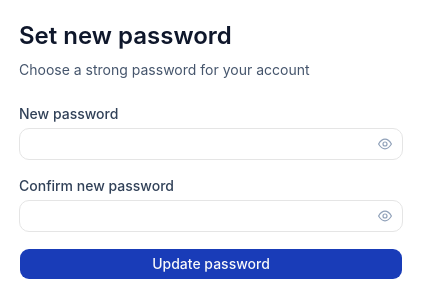
Test case: ResetPasswordPage › показывает ошибку Zod при слабом пароле (нет спецсимвола)
Type "WeakPass1" into the password field labelled "New password".
click(211, 144); type("WeakPass1")  # box [19,128,403,160]
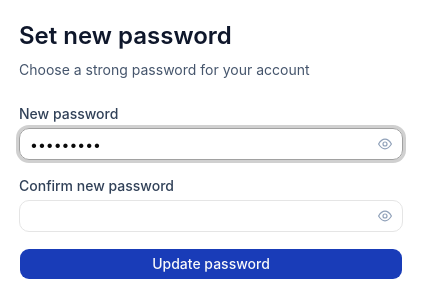
Type "WeakPass1" into the password field labelled "Confirm new password".
click(211, 216); type("WeakPass1")  # box [19,200,403,232]
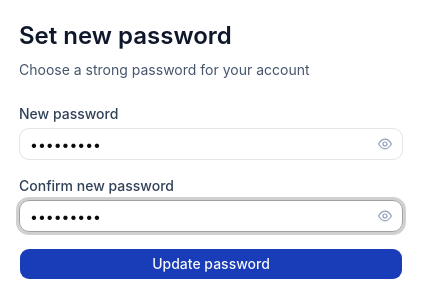
Click the button "Update password".
click(211, 264)  # box [19,248,403,280]
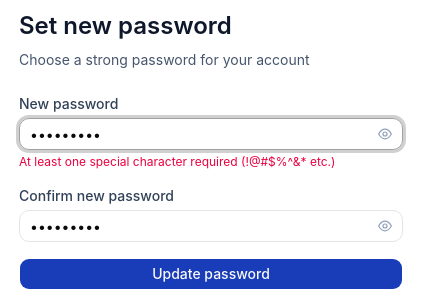
Check: the text "At least one special character required (!@#$%^&* etc.)" is shown, box [19,154,335,169]
